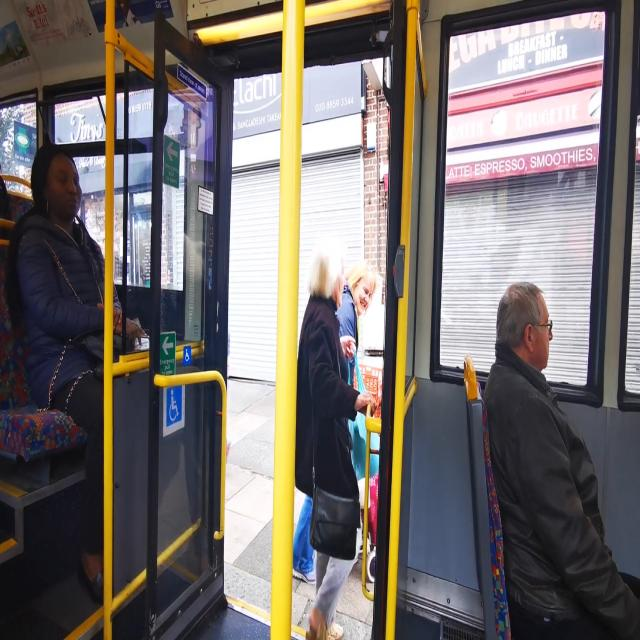bus-door: (156, 23, 404, 640)
